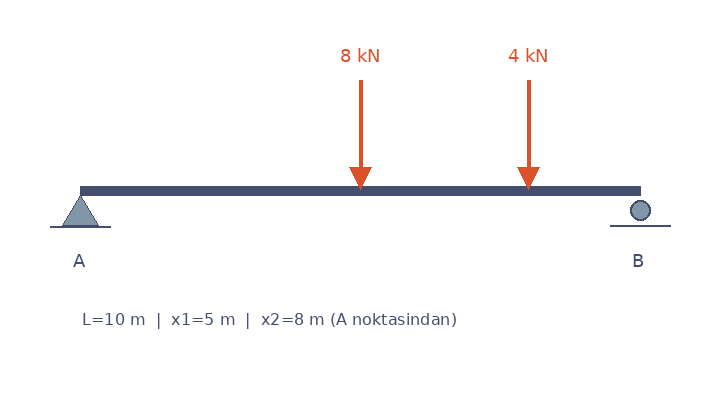pin_support: (61, 190, 99, 226)
point_load: (346, 76, 374, 190), (514, 76, 542, 190)
roller_support: (625, 196, 655, 227)
